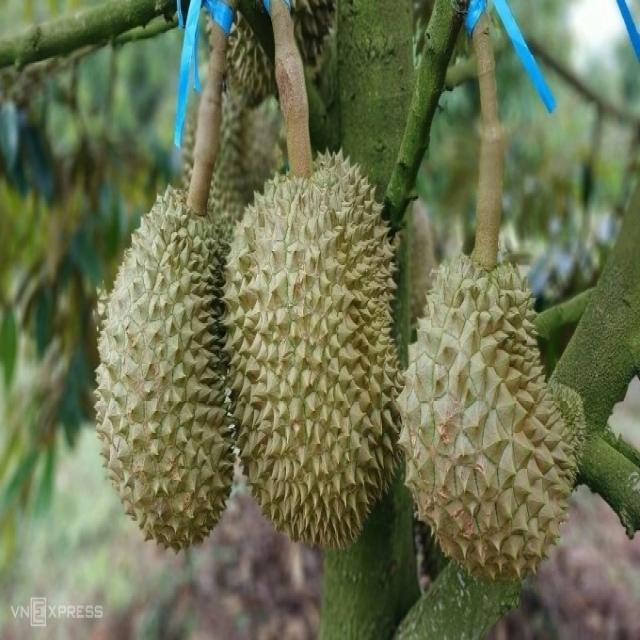immature: (218, 149, 404, 555), (397, 253, 578, 586), (92, 176, 242, 558)
